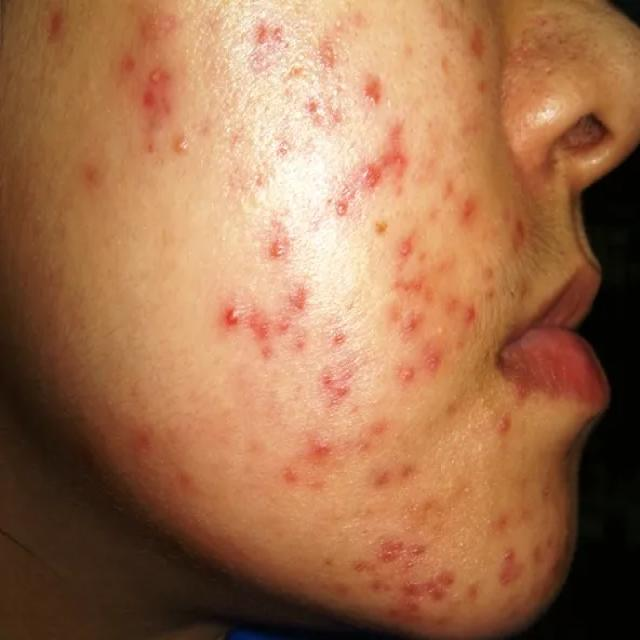Acne: (242, 15, 423, 165), (382, 208, 506, 415), (294, 102, 380, 265), (117, 58, 219, 165), (485, 494, 584, 604), (380, 523, 473, 640), (443, 175, 548, 262), (215, 292, 330, 358), (97, 395, 165, 493), (365, 422, 434, 512), (330, 519, 380, 640), (303, 348, 369, 437), (281, 427, 346, 505), (257, 227, 319, 290), (126, 0, 179, 47), (44, 5, 78, 68), (88, 152, 113, 200)
